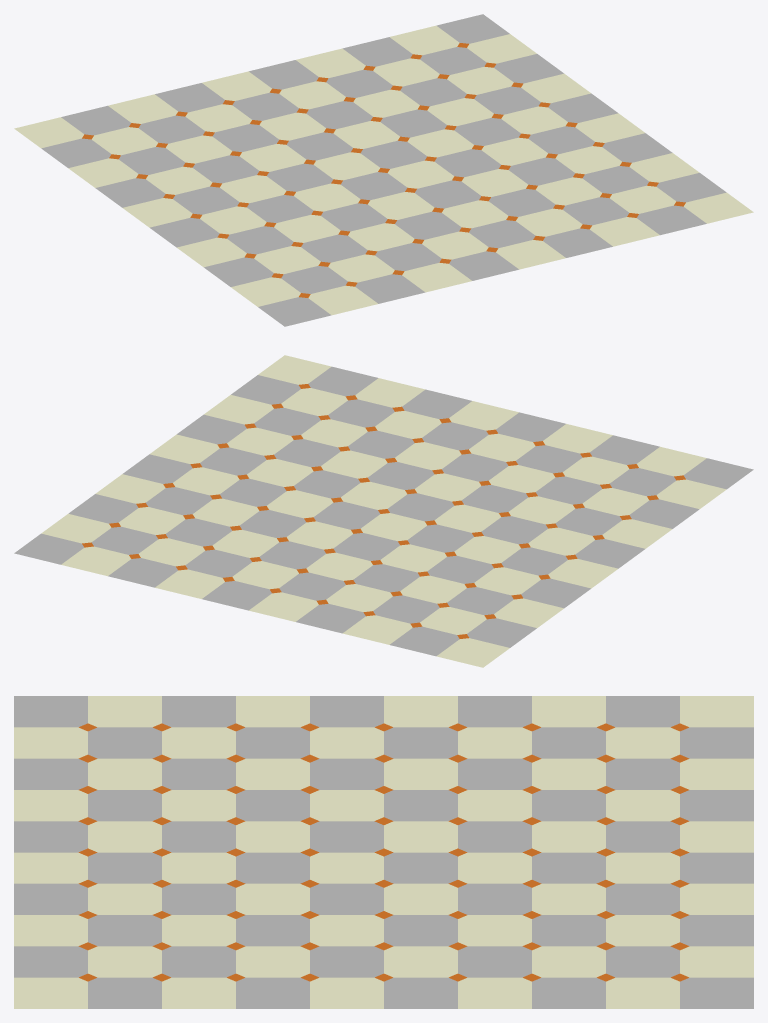
File: floorOrange.fbx
3 views of the same model, one above another, from view 1: azimuth 30°, elevation 25°; view 2: azimuth 150°, elevation 25°; view 3: azimuth 270°, elevation 25° (orthographic). The views are drawn at different scales.
Parts seen in each view (by area): view 1: Orange Room; view 2: Orange Room; view 3: Orange Room.
Part boxes in pixels (bbox=[...]): Orange Room: bbox=[14, 14, 753, 326]; Orange Room: bbox=[14, 355, 753, 667]; Orange Room: bbox=[14, 696, 753, 1008].
Size of the model in its own units: 2532 by 0 by 2532.
